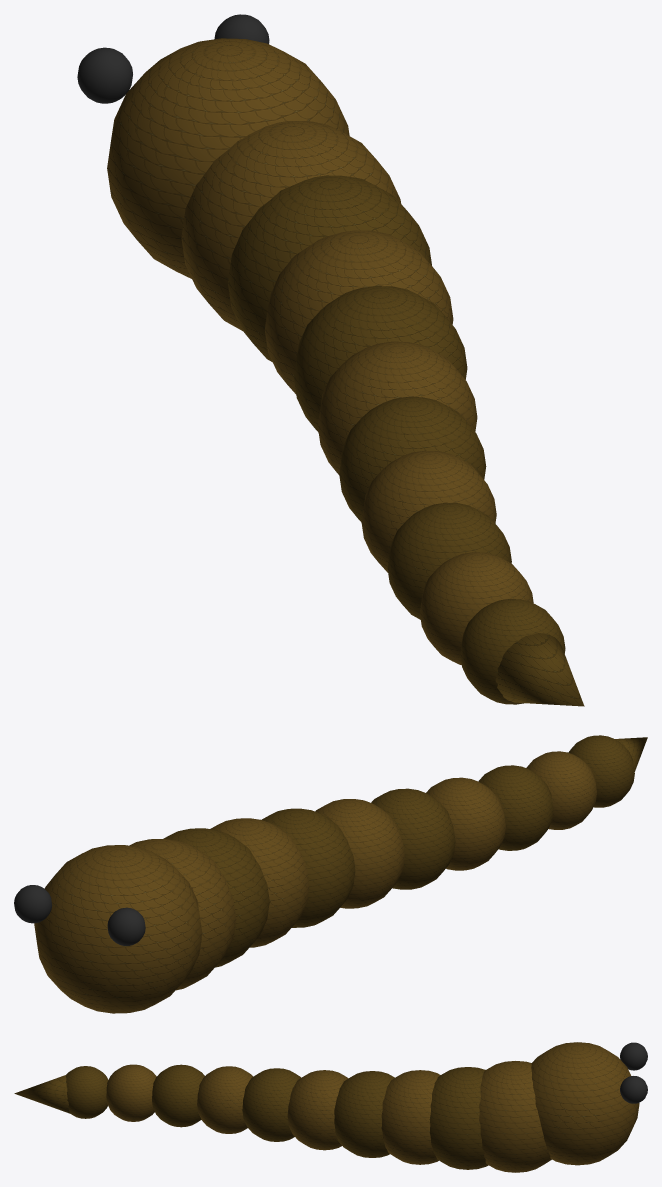
The model's file is carrion-worm.glb.
The picture shows the model from 3 angles, top to bottom: view 1: azimuth 30°, elevation 25°; view 2: azimuth 150°, elevation 25°; view 3: azimuth 270°, elevation 25°; orthographic projection. The views are drawn at different scales.
Parts seen in each view (by area): view 1: Head, Segment, Segment.001, Segment.002, Segment.003, Segment.004, Segment.005, Segment.006, Segment.007, Segment.008, Segment.009, Tail (+2 smaller); view 2: Head, Segment.003, Segment.004, Segment.002, Segment, Segment.005, Segment.001, Segment.006, Segment.007, Segment.008, Segment.009, Eye.001 (+2 smaller); view 3: Head, Segment, Segment.001, Segment.002, Segment.003, Segment.004, Segment.005, Segment.006, Segment.007, Segment.008, Segment.009, Tail (+2 smaller).
Part boxes in pixels (x1,y1,x2,y2): Head: (107,38,349,278); Segment: (181,121,401,330); Segment.001: (228,175,431,361); Segment.002: (264,230,453,394); Segment.003: (294,286,467,432); Segment.004: (317,341,477,474); Segment.005: (339,397,486,522); Segment.006: (361,450,496,572); Segment.007: (387,502,511,619); Segment.008: (419,552,533,664); Segment.009: (460,599,565,704); Tail: (495,633,584,706); Head: (34,845,202,1013); Segment.003: (261,808,355,927); Segment.004: (315,799,404,908); Segment.002: (210,818,309,947); Segment: (129,838,236,990); Segment.005: (371,788,455,889); Segment.001: (164,828,269,967); Segment.006: (426,777,505,870); Segment.007: (478,765,553,850); Segment.008: (526,751,596,829); Segment.009: (568,735,634,807); Eye.001: (14,885,52,923); Head: (531,1042,639,1165); Segment: (479,1061,551,1172); Segment.001: (429,1067,488,1169); Segment.002: (381,1070,440,1164); Segment.003: (334,1071,394,1157); Segment.004: (287,1070,348,1150); Segment.005: (242,1068,301,1141); Segment.006: (197,1066,253,1133); Segment.007: (152,1064,204,1127); Segment.008: (106,1064,156,1121); Segment.009: (66,1066,108,1118); Tail: (14,1075,84,1118).
Bounding box in the file's own units: 0.7433 × 0.47 × 2.25.
Materials: 3 (2 with a texture image).
